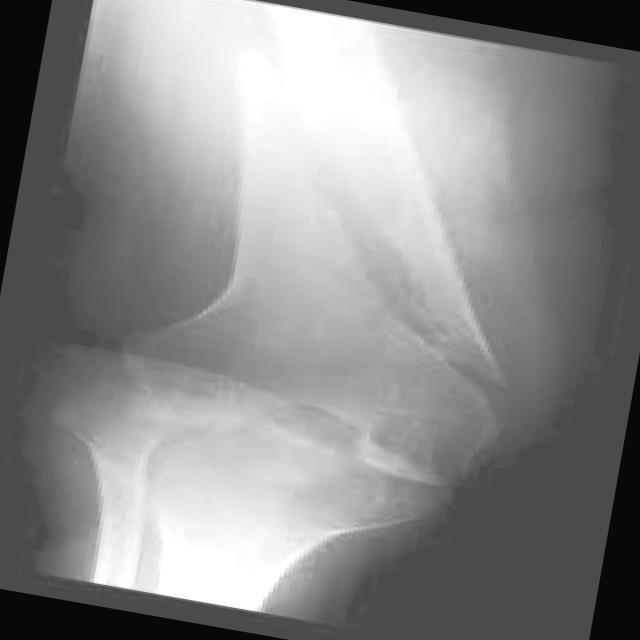spiral fracture: (350, 215, 507, 400)
